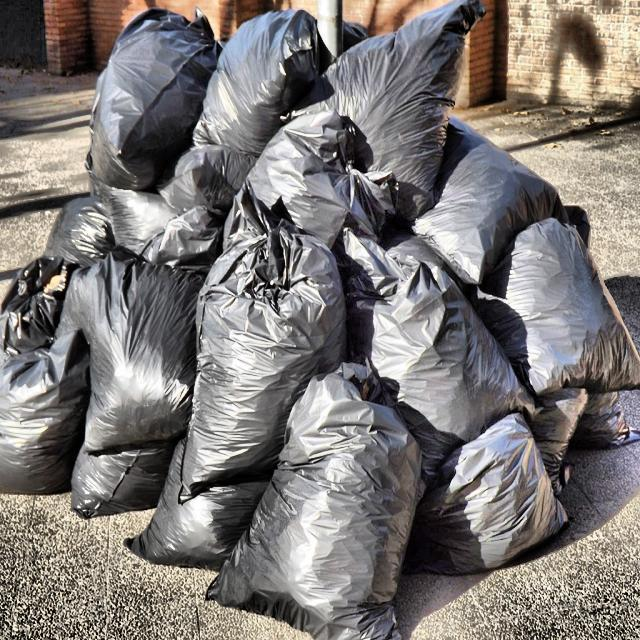Trashbag: (235, 417, 426, 635), (323, 0, 489, 199), (350, 234, 510, 435), (198, 222, 340, 435), (415, 416, 570, 582), (73, 8, 208, 190), (198, 7, 336, 184), (502, 220, 636, 402), (79, 274, 189, 458), (0, 323, 94, 496)
